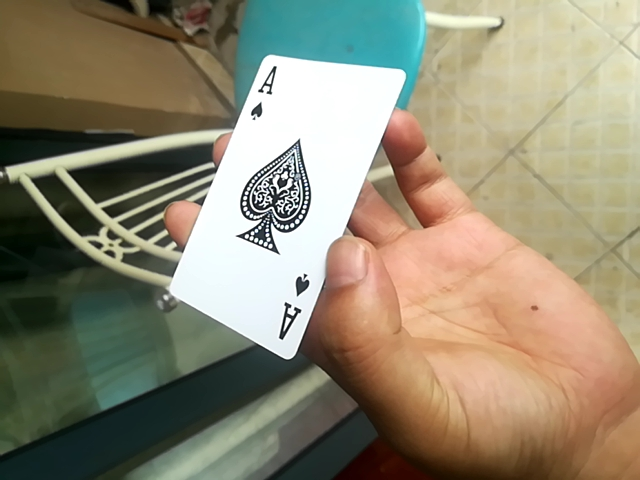ht a: (158, 47, 397, 364)
